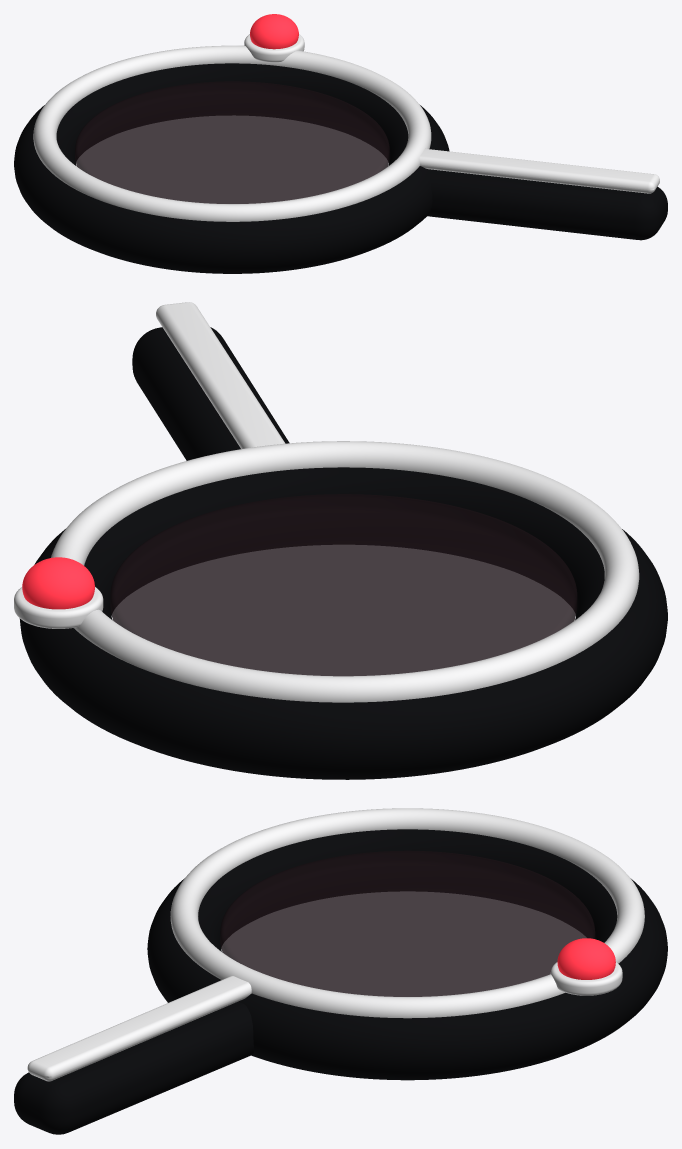
File: loupe-magnifier-v2.glb
The picture shows the model from 3 angles, top to bottom: view 1: azimuth 30°, elevation 25°; view 2: azimuth 150°, elevation 25°; view 3: azimuth 270°, elevation 25°; orthographic projection. The views are drawn at different scales.
Visible parts, largest first — view 1: Frame_Graphite, Optical_Glass, Optical_Bezel_Ivory, Handle_Graphite, Handle_Ivory_Inlay, Locator_Red_Bead, Locator_Ivory_Collar; view 2: Frame_Graphite, Optical_Glass, Optical_Bezel_Ivory, Handle_Graphite, Handle_Ivory_Inlay, Locator_Red_Bead, Locator_Ivory_Collar; view 3: Frame_Graphite, Optical_Glass, Optical_Bezel_Ivory, Handle_Graphite, Handle_Ivory_Inlay, Locator_Red_Bead, Locator_Ivory_Collar.
Part boxes in pixels (<box>): Frame_Graphite: <box>14,63,449,273</box>; Optical_Glass: <box>75,81,389,203</box>; Optical_Bezel_Ivory: <box>33,45,431,221</box>; Handle_Graphite: <box>427,169,667,240</box>; Handle_Ivory_Inlay: <box>419,148,659,193</box>; Locator_Red_Bead: <box>250,14,298,49</box>; Locator_Ivory_Collar: <box>244,34,304,62</box>; Frame_Graphite: <box>19,467,667,779</box>; Optical_Glass: <box>110,494,577,676</box>; Optical_Bezel_Ivory: <box>51,441,639,702</box>; Handle_Graphite: <box>132,327,289,460</box>; Handle_Ivory_Inlay: <box>156,302,285,448</box>; Locator_Red_Bead: <box>22,557,94,609</box>; Locator_Ivory_Collar: <box>14,587,103,628</box>; Frame_Graphite: <box>147,829,667,1080</box>; Optical_Glass: <box>220,850,595,996</box>; Optical_Bezel_Ivory: <box>170,808,644,1018</box>; Handle_Graphite: <box>14,1001,253,1134</box>; Handle_Ivory_Inlay: <box>27,976,251,1081</box>; Locator_Red_Bead: <box>557,938,615,979</box>; Locator_Ivory_Collar: <box>550,962,622,995</box>.
Size of the model in its own units: 6.38 by 1.17 by 6.38.
